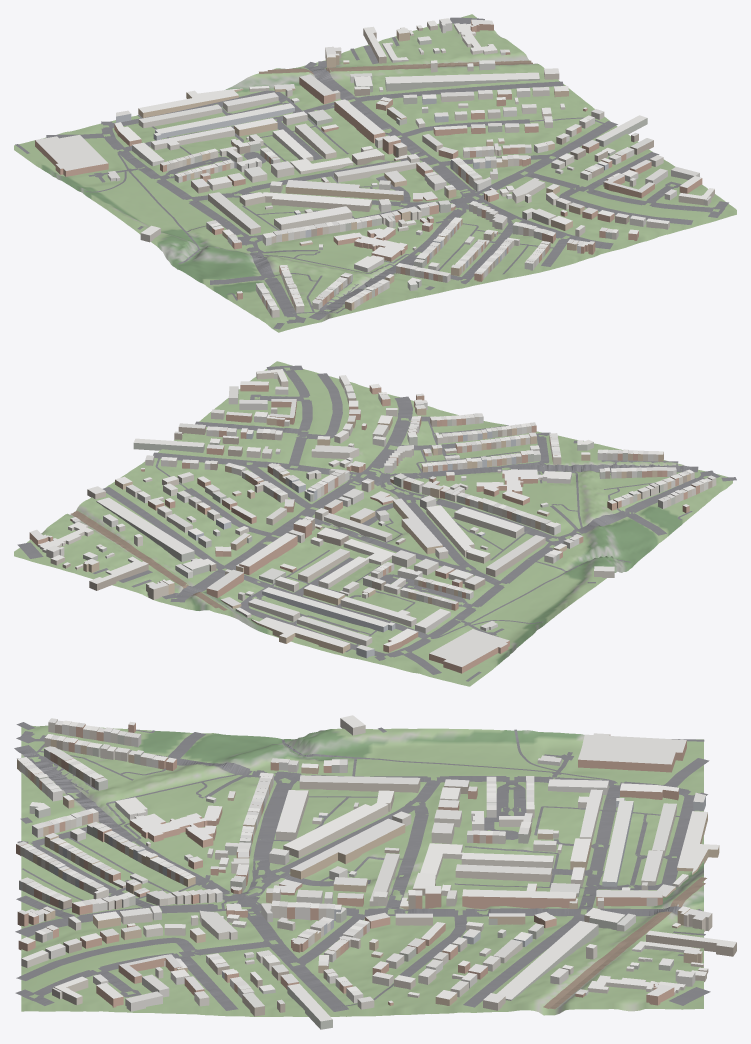
3 renders of one model, top to bottom at view 1: azimuth 30°, elevation 25°; view 2: azimuth 150°, elevation 25°; view 3: azimuth 270°, elevation 25°, orthographic. The views are drawn at different scales.
Visible parts, largest first — view 1: prim1, prim0, prim2, prim3; view 2: prim1, prim0, prim2, prim3; view 3: prim1, prim0, prim2, prim3.
Boxes of the visible parts, <box> form: prim1: <box>35,18,714,317</box>; prim0: <box>14,14,736,332</box>; prim2: <box>15,17,728,329</box>; prim3: <box>259,60,532,74</box>; prim1: <box>29,369,716,673</box>; prim0: <box>14,361,732,686</box>; prim2: <box>17,365,736,681</box>; prim3: <box>71,510,227,610</box>; prim1: <box>16,715,736,1029</box>; prim0: <box>21,725,703,1016</box>; prim2: <box>14,722,710,1011</box>; prim3: <box>543,877,706,1009</box>.
Bounding box in the file's own units: 552 × 32.52 × 542.
